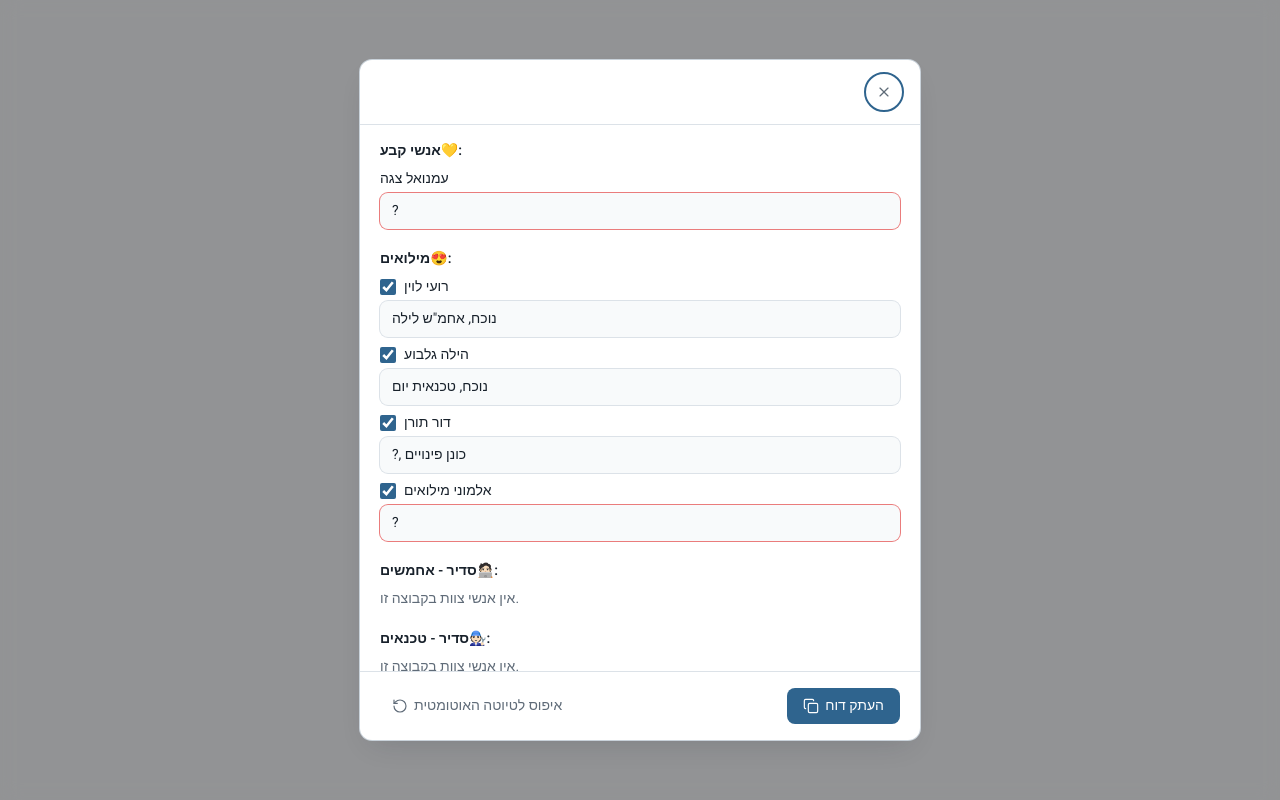
Scenario: ReportOneEditorOverlay — reserve inclusion checkbox › 9. unchecking a reserve person with a night shift requires confirmation before persisting
The width and height of the screenshot is (1280, 800).
What coordinates should you click on to do the following:
click the checkbox named "כלול בדוח 1: רועי לוין"
I would click on:
 (388, 287)
Its box is x1=380 y1=279 x2=396 y2=295.
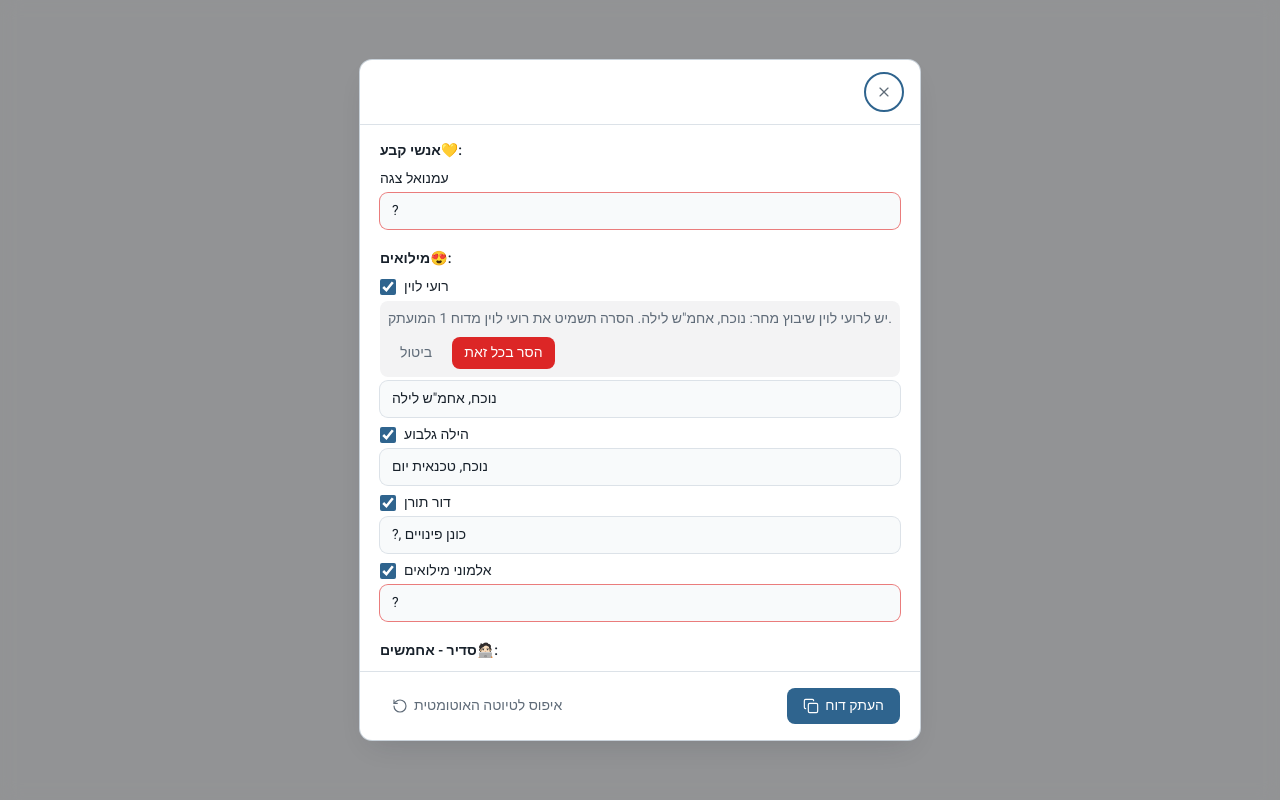
Expected: the button "הסר בכל זאת" is shown, x1=452 y1=337 x2=554 y2=369
